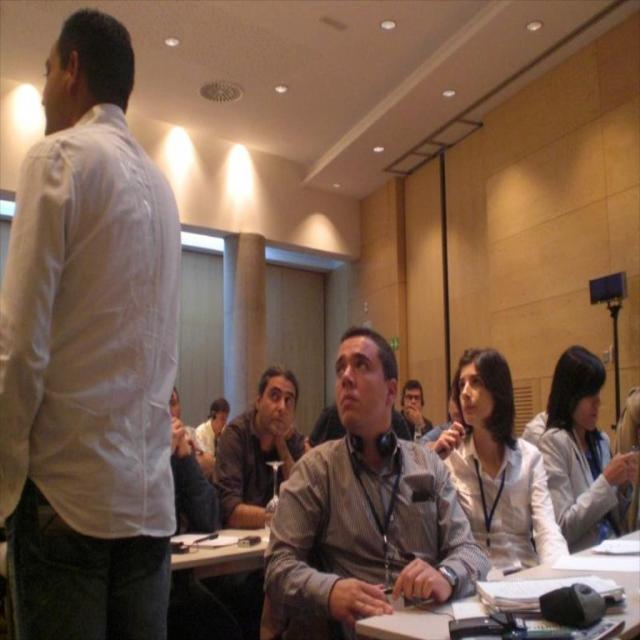desk: (171, 529, 267, 583)
person: (1, 10, 183, 639), (260, 327, 490, 640), (427, 347, 571, 573), (535, 346, 639, 554), (214, 366, 312, 528), (168, 389, 222, 535), (195, 397, 230, 474), (399, 379, 435, 441)
